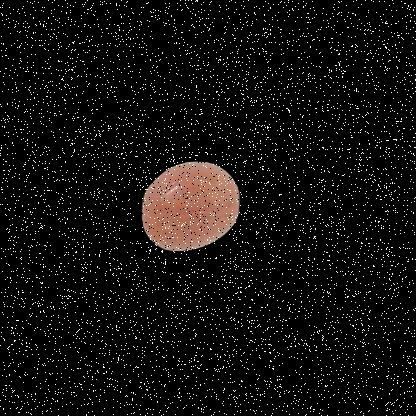opiqutan: (120, 145, 264, 290)
